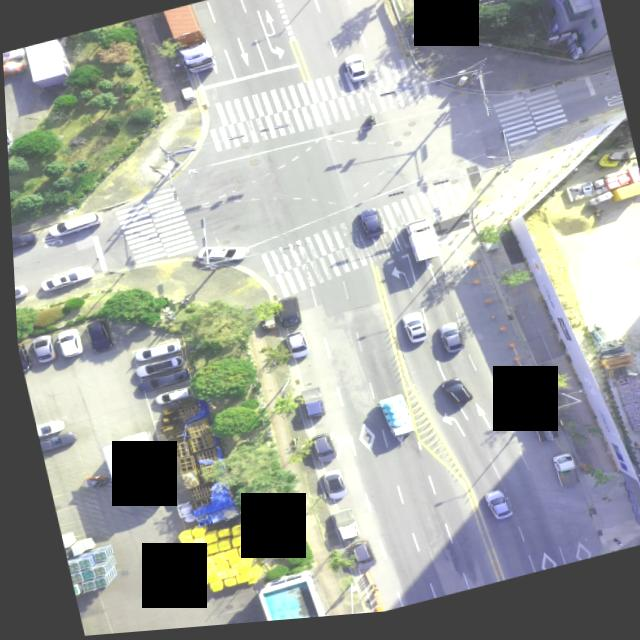car: (434, 381, 469, 416)
large_truck: (161, 2, 220, 83)
medium_truck: (94, 428, 167, 514), (401, 222, 438, 270)
small_truck: (371, 394, 412, 445), (521, 410, 555, 454), (544, 461, 573, 499), (325, 510, 354, 548)
